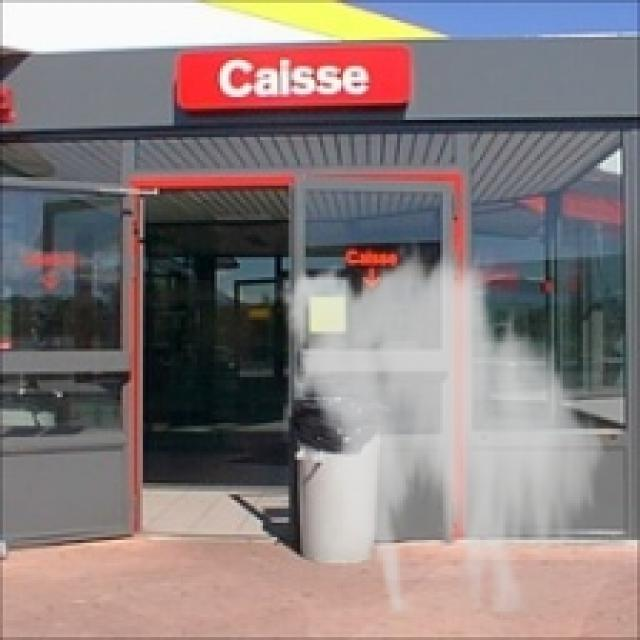Smoke: (268, 237, 614, 614)
